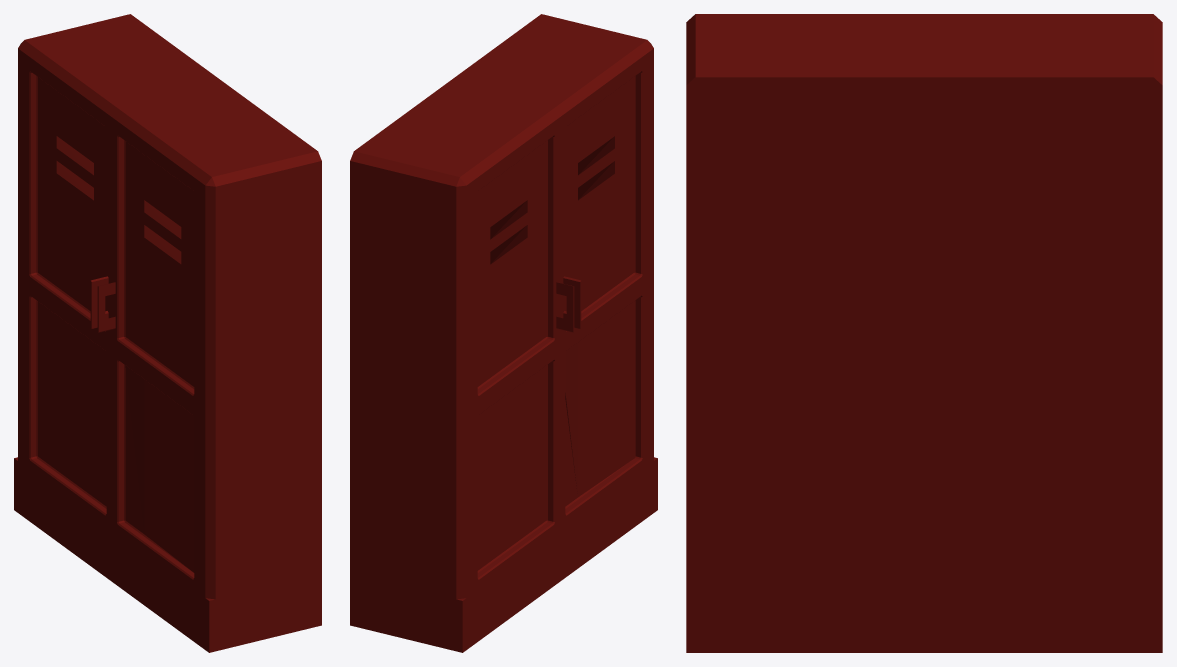
Rendered from uploads_files_2900809_locker.obj.
3 views of the same model, side by side, from view 1: azimuth 30°, elevation 25°; view 2: azimuth 150°, elevation 25°; view 3: azimuth 270°, elevation 25° (orthographic). The views are drawn at different scales.
Parts seen in each view (by area): view 1: Locker; view 2: Locker; view 3: Locker.
Part boxes in pixels (x1,y1,x2,y2): Locker: (14, 14, 321, 652); Locker: (350, 14, 657, 652); Locker: (686, 14, 1162, 652).
Size of the model in its own units: 0.5754 by 2 by 1.5.
